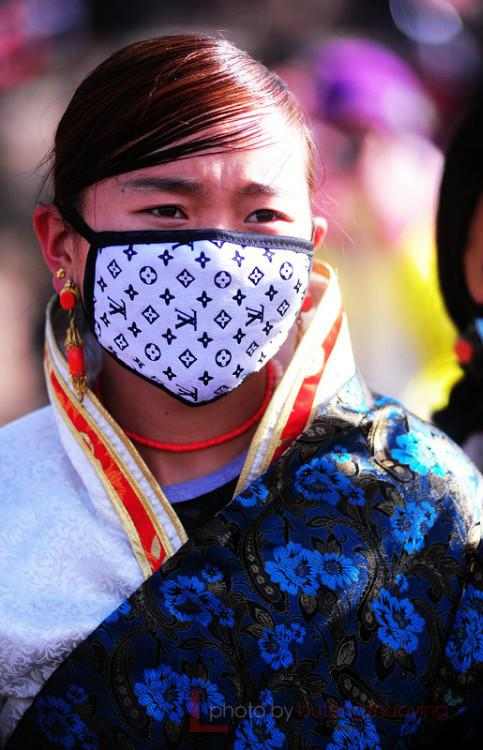OK: (76, 153, 312, 389)
